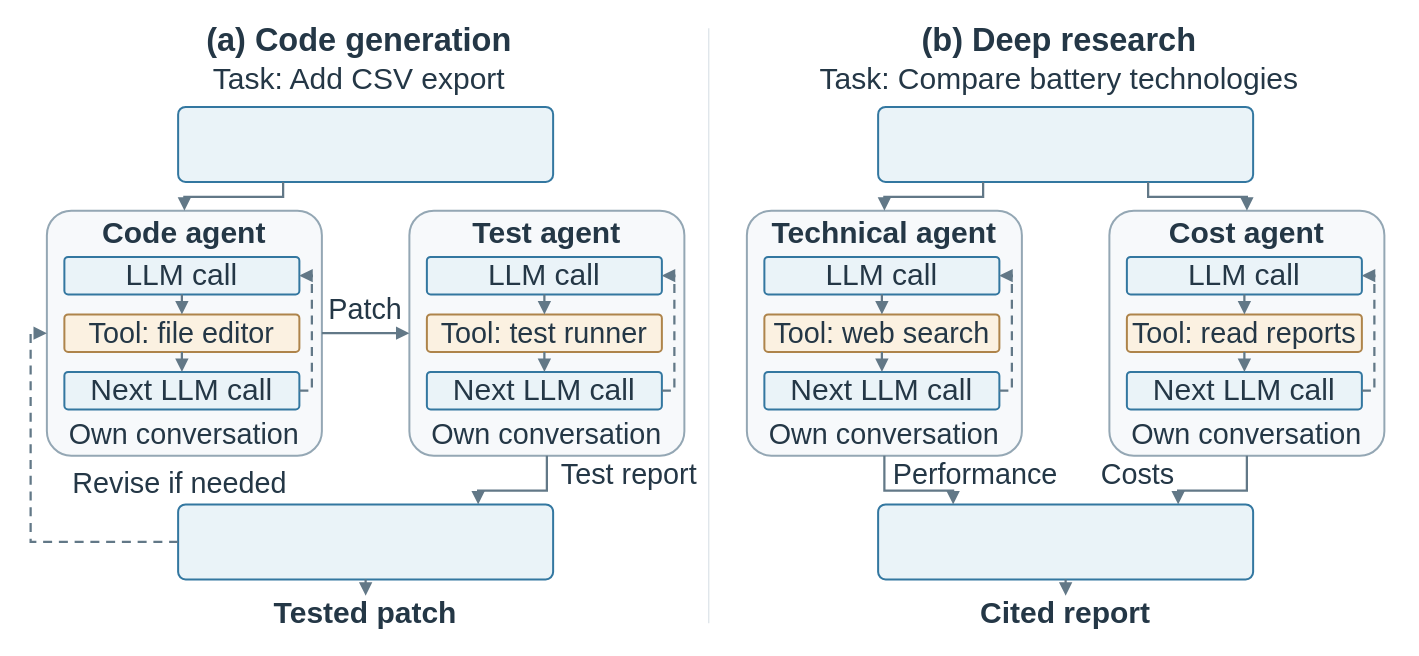
This 1419x656 diagram has some shape labels left out. The shapes that lost their labels are listed below. From the top down, each one's centre as x and y in pixels, then its label:
At [365,143]: "Main agent Plan & delegate".
At [1065,143]: "Lead researcher Decompose question".
At [365,541]: "Main agent Accept or revise".
At [1065,541]: "Lead researcher Synthesize evidence".
